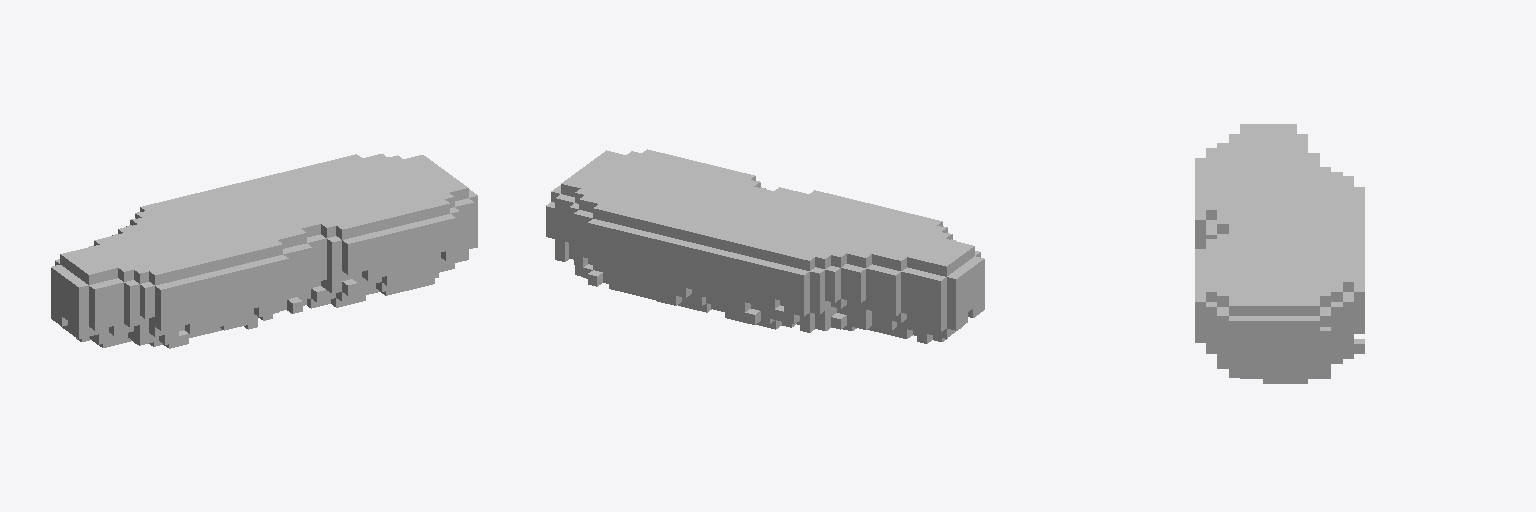
File: ground20_3.obj
3 renders of one model, left to right at view 1: azimuth 30°, elevation 25°; view 2: azimuth 150°, elevation 25°; view 3: azimuth 270°, elevation 25°, orthographic.
Parts seen in each view (by area): view 1: ObjObject.020; view 2: ObjObject.020; view 3: ObjObject.020.
Boxes of the visible parts, <box> form: ObjObject.020: <box>51,154,477,348</box>; ObjObject.020: <box>546,149,984,343</box>; ObjObject.020: <box>1195,124,1364,383</box>.
Size of the model in its own units: 4 by 0.8 by 1.5.